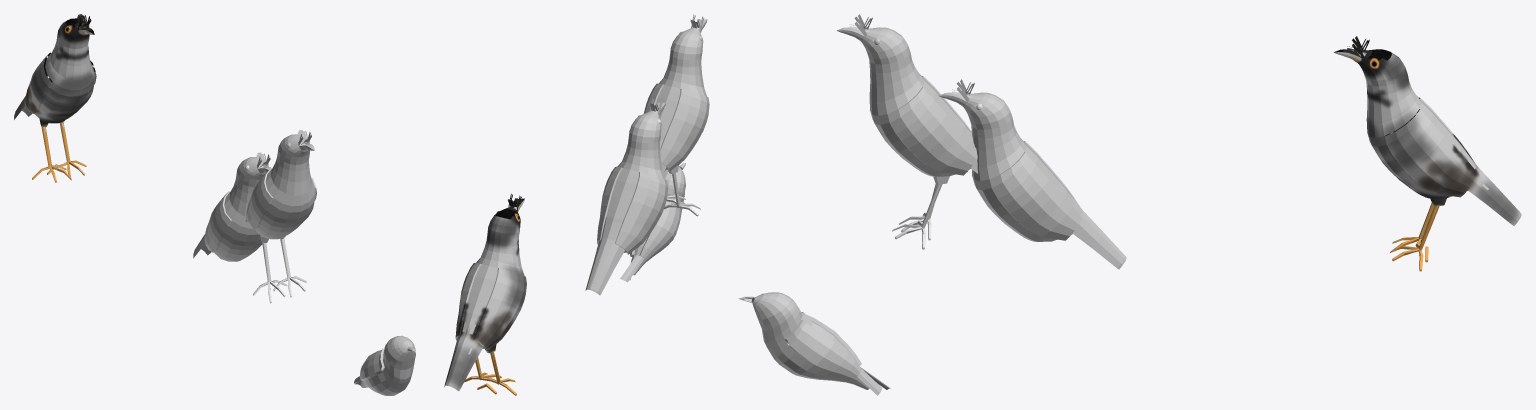
The model's file is Color_myna.fbx.
3 renders of one model, left to right at view 1: azimuth 30°, elevation 25°; view 2: azimuth 150°, elevation 25°; view 3: azimuth 270°, elevation 25°, orthographic. The views are drawn at different scales.
Visible parts, largest first — view 1: Bird Myna, Bird Myna.002, Cylinder, Cylinder.004, Cylinder.003, Cylinder.002; view 2: Bird Myna, Cylinder, Bird Myna.002, Cylinder.004, Cylinder.003; view 3: Bird Myna, Cylinder, Bird Myna.002, Cylinder.004.
Part boxes in pixels (<box>): Bird Myna: <box>14,14,96,182</box>; Bird Myna.002: <box>245,130,316,242</box>; Cylinder: <box>193,152,271,261</box>; Cylinder.004: <box>354,335,415,395</box>; Cylinder.003: <box>253,242,287,303</box>; Cylinder.002: <box>273,238,306,297</box>; Bird Myna: <box>444,193,526,395</box>; Cylinder: <box>585,97,668,295</box>; Bird Myna.002: <box>643,14,709,173</box>; Cylinder.004: <box>620,163,685,282</box>; Cylinder.003: <box>664,173,700,216</box>; Bird Myna: <box>1334,36,1521,271</box>; Cylinder: <box>939,79,1126,269</box>; Bird Myna.002: <box>836,14,977,184</box>; Cylinder.004: <box>738,292,890,395</box>.
Bounding box in the file's own units: 1594 × 3330 × 6940.
